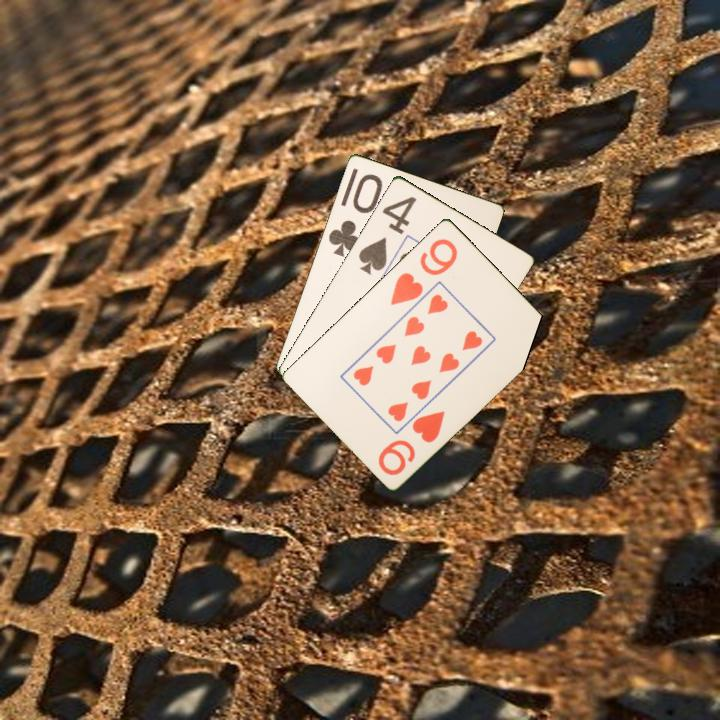10c: (324, 170, 385, 259)
4s: (355, 192, 419, 277)
9h: (387, 234, 461, 308), (374, 407, 448, 478)
